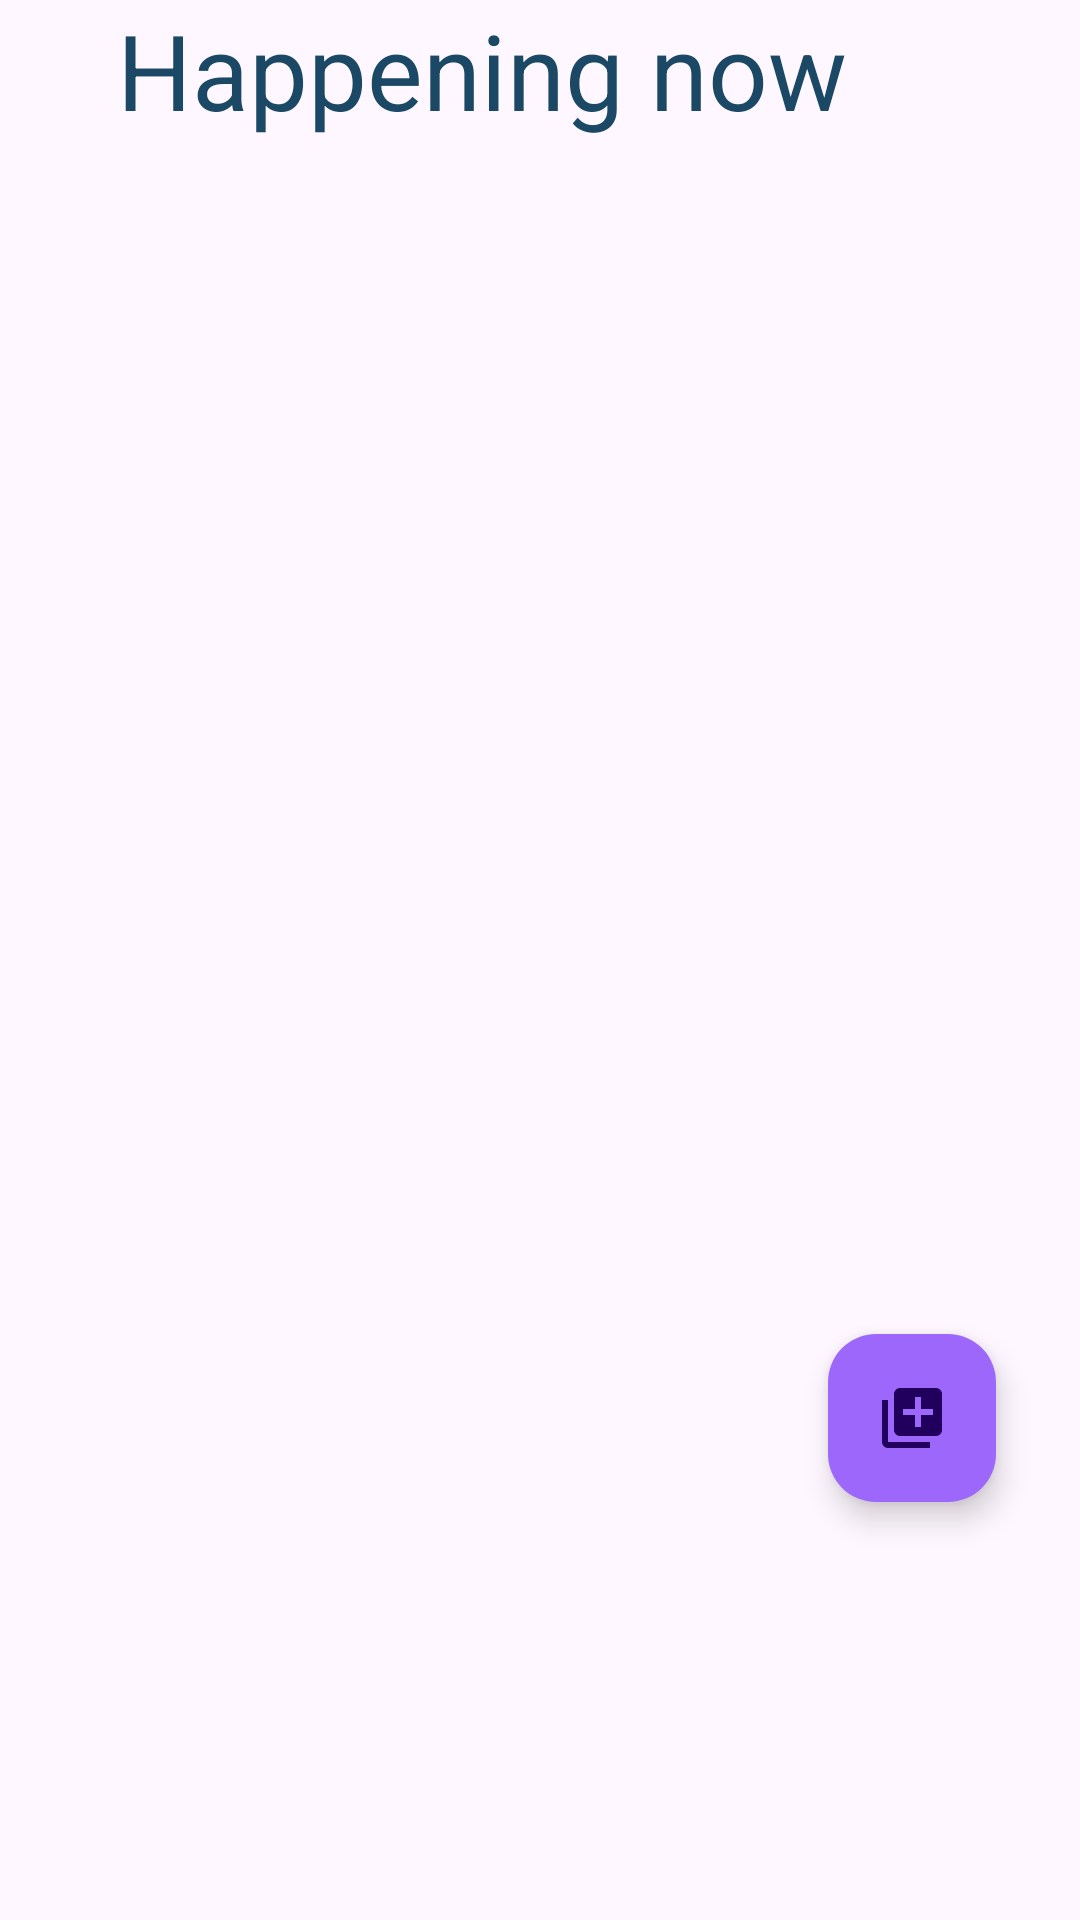

Icon click points for this 1080w x 1920h phone screenshot, format [x,y]:
library add: [912,1418]
